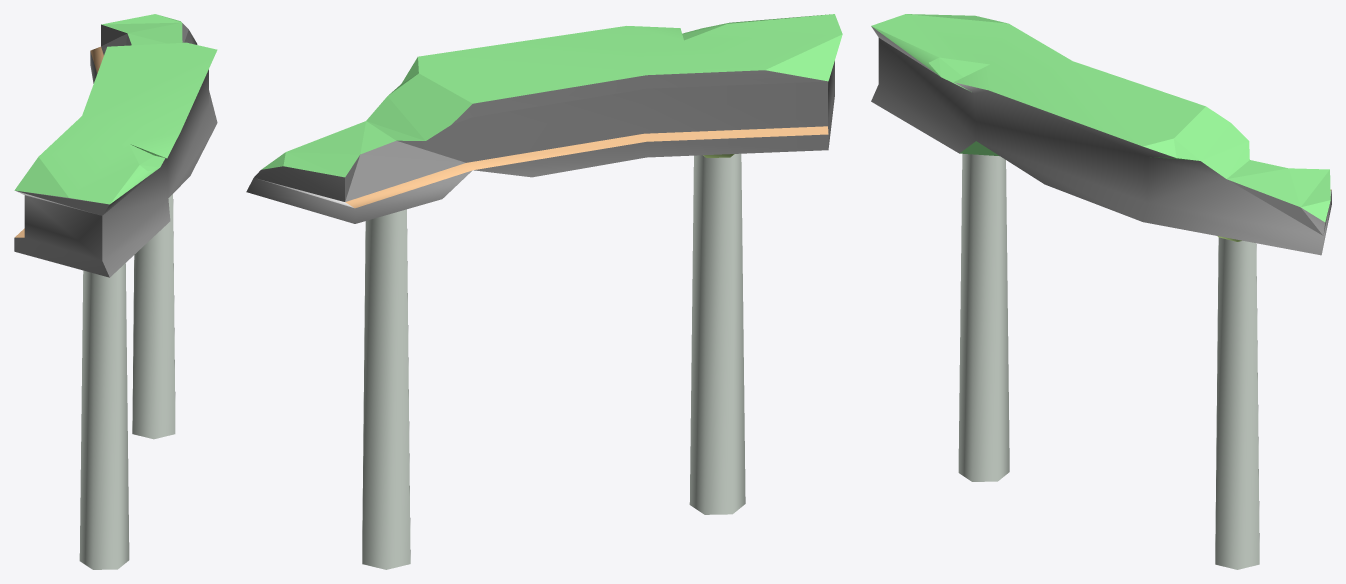
File: O_E_WT_Pr01_Top.gltf
3 renders of one model, left to right at view 1: azimuth 30°, elevation 25°; view 2: azimuth 150°, elevation 25°; view 3: azimuth 270°, elevation 25°, orthographic. The views are drawn at different scales.
Visible parts, largest first — view 1: O_E_WT_Pr01_Top; view 2: O_E_WT_Pr01_Top; view 3: O_E_WT_Pr01_Top.
Part boxes in pixels (left/top/right/bottom): O_E_WT_Pr01_Top: left=14, top=14, right=217, bottom=569; O_E_WT_Pr01_Top: left=246, top=14, right=842, bottom=569; O_E_WT_Pr01_Top: left=871, top=14, right=1331, bottom=569.
Size of the model in its own units: 3.18 by 3.54 by 3.51.
